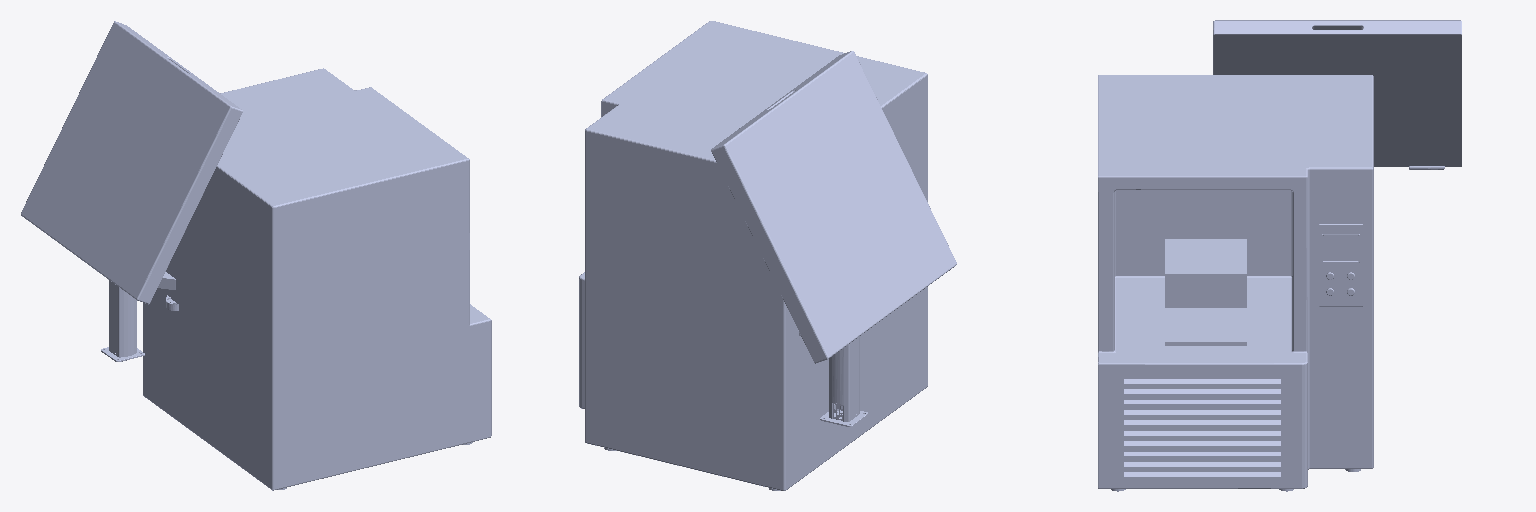
The robot description file, URDF, robot "z_arm_2442c0":
<?xml version="1.0" encoding="utf-8"?>
<!-- This URDF was automatically created by SolidWorks to URDF Exporter! Originally created by [author] ([email redacted]) 
     Commit Version: 1.6.0-4-g7f85cfe  Build Version: 1.6.7995.38578
     For more information, please see http://wiki.ros.org/sw_urdf_exporter -->
<robot
  name="z_arm_2442c0">
  <link
    name="base_link">
    <inertial>
      <origin
        xyz="-0.6178 0.59958 0.70792"
        rpy="0 0 0" />
      <mass
        value="951.87" />
      <inertia
        ixx="137.78"
        ixy="0.0044402"
        ixz="-10.933"
        iyy="119.15"
        iyz="-0.00067217"
        izz="158.71" />
    </inertial>
    <visual>
      <origin
        xyz="0 0 0"
        rpy="0 0 0" />
      <geometry>
        <mesh filename="package://z_arm_2442c0_model/meshes/base_link.STL" />
      </geometry>
<material
        name="">
        <color
          rgba="0.792156862745098 0.819607843137255 0.933333333333333 1" />
      </material>
    </visual>
    <collision>
      <origin
        xyz="0 0 0"
        rpy="0 0 0" />
      <geometry>
        <mesh filename="package://z_arm_2442c0_model/meshes/base_link.STL" />
      </geometry>
    </collision>
  </link>
  <link
    name="door_link">
    <inertial>
      <origin
        xyz="0.32048066892287 2.3834458054398E-10 0.562398088143635"
        rpy="0 0 0" />
      <mass
        value="181.651646287815" />
      <inertia
        ixx="48.7702456064344"
        ixy="-1.59733671105852E-10"
        ixz="-10.9325544807547"
        iyy="25.5516862461827"
        iyz="1.39131607597233E-11"
        izz="36.1437519623492" />
    </inertial>
    <visual>
      <origin
        xyz="0 0 0"
        rpy="0 0 0" />
      <geometry>
        <mesh filename="package://z_arm_2442c0_model/meshes/door_link.STL" />
      </geometry>
<material
        name="">
        <color
          rgba="0.792156862745098 0.819607843137255 0.933333333333333 1" />
      </material>
    </visual>
    <collision>
      <origin
        xyz="0 0 0"
        rpy="0 0 0" />
      <geometry>
        <mesh filename="package://z_arm_2442c0_model/meshes/door_link.STL" />
      </geometry>
    </collision>
  </link>
  <joint
    name="door_joint"
    type="revolute">
    <origin
      xyz="-1.2401 0.6 1.0971"
      rpy="0 0 0" />
    <parent
      link="base_link" />
    <child
      link="door_link" />
    <axis
      xyz="0 -1 0" />
  <limit lower="-1" upper="0.268" effort="10.0" velocity="2.5" />
  </joint>
  <link
    name="base_lift_link">
    <inertial>
      <origin
        xyz="-0.0138235267428053 -0.000617643429039805 0.256337391094087"
        rpy="0 0 0" />
      <mass
        value="2.24198664042392" />
      <inertia
        ixx="0.0506641832977411"
        ixy="7.09367963595699E-05"
        ixz="-0.000147564343759707"
        iyy="0.0494711018646685"
        iyz="-0.000578573299400282"
        izz="0.0102402545016511" />
    </inertial>
    <visual>
      <origin
        xyz="0 0 0"
        rpy="0 0 0" />
      <geometry>
        <mesh filename="package://z_arm_2442c0_model/meshes/base_lift_link.STL" />
      </geometry>
<material
        name="">
        <color
          rgba="0.792156862745098 0.819607843137255 0.933333333333333 1" />
      </material>
    </visual>
    <collision>
      <origin
        xyz="0 0 0"
        rpy="0 0 0" />
      <geometry>
        <mesh filename="package://z_arm_2442c0_model/meshes/base_lift_link.STL" />
      </geometry>
    </collision>
  </link>
  <joint
    name="base_joint"
    type="fixed">
    <origin
      xyz="-0.97852 0.59917 0.42459"
      rpy="0 0 0" />
    <parent
      link="base_link" />
    <child
      link="base_lift_link" />
    <axis
      xyz="0 0 0" />
  </joint>
  <link
    name="lift_link">
    <inertial>
      <origin
        xyz="-0.0394813607628044 -0.000736121252994326 -0.0372265212000362"
        rpy="0 0 0" />
      <mass
        value="0.993724555380008" />
      <inertia
        ixx="0.000951122396615806"
        ixy="-5.13373343735685E-05"
        ixz="7.33288284051898E-05"
        iyy="0.00342810823599992"
        iyz="-1.00008205904848E-06"
        izz="0.00392520888178525" />
    </inertial>
    <visual>
      <origin
        xyz="0 0 0"
        rpy="0 0 0" />
      <geometry>
        <mesh filename="package://z_arm_2442c0_model/meshes/lift_link.STL" />
      </geometry>
<material
        name="">
        <color
          rgba="0.792156862745098 0.819607843137255 0.933333333333333 1" />
      </material>
    </visual>
    <collision>
      <origin
        xyz="0 0 0"
        rpy="0 0 0" />
      <geometry>
        <mesh filename="package://z_arm_2442c0_model/meshes/lift_link.STL" />
      </geometry>
    </collision>
  </link>
  <joint
    name="lift_joint"
    type="prismatic">
    <origin
      xyz="0.1207 0.0018675 0.5009"
      rpy="0 0 0" />
    <parent
      link="base_lift_link" />
    <child
      link="lift_link" />
    <axis
      xyz="0 0 -1" />
    <limit lower="-0.068" upper="0.268" effort="10.0" velocity="2.5" />
  </joint>
  <link
    name="revolute_1_link">
    <inertial>
      <origin
        xyz="0.0606601004684422 -0.0932567161478479 -0.0341257142535358"
        rpy="0 0 0" />
      <mass
        value="2.3889549988802" />
      <inertia
        ixx="0.014531129631885"
        ixy="0.00746693434928961"
        ixz="5.15406751826989E-05"
        iyy="0.00789336402236104"
        iyz="-7.92546580618748E-05"
        izz="0.0205254159011504" />
    </inertial>
    <visual>
      <origin
        xyz="0 0 0"
        rpy="0 0 0" />
      <geometry>
        <mesh filename="package://z_arm_2442c0_model/meshes/revolute_1_link.STL" />
      </geometry>
<material
        name="">
        <color
          rgba="0.792156862745098 0.819607843137255 0.933333333333333 1" />
      </material>
    </visual>
    <collision>
      <origin
        xyz="0 0 0"
        rpy="0 0 0" />
      <geometry>
        <mesh filename="package://z_arm_2442c0_model/meshes/revolute_1_link.STL" />
      </geometry>
    </collision>
  </link>
  <joint
    name="revolute_1_joint"
    type="revolute">
    <origin
      xyz="0.012024 0.00017897 -0.066"
      rpy="0 0 0" />
    <parent
      link="lift_link" />
    <child
      link="revolute_1_link" />
    <axis
      xyz="0 0 1" />
    <limit lower="-0.550" upper="2.59" effort="10.0" velocity="2.5" />
  </joint>
  <link
    name="revolute_2_link">
    <inertial>
      <origin
        xyz="0.0510174015179587 0.0862834154944128 0.0203041362505351"
        rpy="0 0 0" />
      <mass
        value="1.2295144495631" />
      <inertia
        ixx="0.00630447000979999"
        ixy="-0.00305064142878226"
        ixz="-3.98688476250461E-06"
        iyy="0.00294255711521701"
        iyz="-5.99941190124979E-06"
        izz="0.00890314242165485" />
    </inertial>
    <visual>
      <origin
        xyz="0 0 0"
        rpy="0 0 0" />
      <geometry>
        <mesh filename="package://z_arm_2442c0_model/meshes/revolute_2_link.STL" />
      </geometry>
<material
        name="">
        <color
          rgba="0.792156862745098 0.819607843137255 0.933333333333333 1" />
      </material>
    </visual>
    <collision>
      <origin
        xyz="0 0 0"
        rpy="0 0 0" />
      <geometry>
        <mesh filename="package://z_arm_2442c0_model/meshes/revolute_2_link.STL" />
      </geometry>
    </collision>
  </link>
  <joint
    name="revolute_2_joint"
    type="revolute">
    <origin
      xyz="0.11991 -0.18445 -0.118"
      rpy="0 0 0" />
    <parent
      link="revolute_1_link" />
    <child
      link="revolute_2_link" />
    <axis
      xyz="0 0 -1" />
  <limit lower="-1.056" upper="4.678" effort="10.0" velocity="2.5" />
  </joint>
  <link
    name="revolute_3_link">
    <inertial>
      <origin
        xyz="0.000243780027589846 0.000259647437434044 0.000662357342637421"
        rpy="0 0 0" />
      <mass
        value="0.0445549065520843" />
      <inertia
        ixx="1.84658724230793E-05"
        ixy="1.16123299150103E-07"
        ixz="4.11478557324253E-08"
        iyy="1.85936893619463E-05"
        iyz="6.961350801403E-08"
        izz="3.2800424734752E-05" />
    </inertial>
    <visual>
      <origin
        xyz="0 0 0"
        rpy="0 0 0" />
      <geometry>
        <mesh filename="package://z_arm_2442c0_model/meshes/revolute_3_link.STL" />
      </geometry>
<material
        name="">
        <color
          rgba="0.792156862745098 0.819607843137255 0.933333333333333 1" />
      </material>
    </visual>
    <collision>
      <origin
        xyz="0 0 0"
        rpy="0 0 0" />
      <geometry>
        <mesh filename="package://z_arm_2442c0_model/meshes/revolute_3_link.STL" />
      </geometry>
    </collision>
  </link>
  <joint
    name="revolute_3_joint"
    type="continuous">
    <origin
      xyz="0.1017 0.17221 -0.006"
      rpy="0 0 0" />
    <parent
      link="revolute_2_link" />
    <child
      link="revolute_3_link" />
    <axis
      xyz="0 0 -1" />
  </joint>
  <link
    name="camera_base_link">
    <inertial>
      <origin
        xyz="0.0645225305069741 4.19126539030756E-14 0.0100037609326707"
        rpy="0 0 0" />
      <mass
        value="0.203205987623318" />
      <inertia
        ixx="0.000356342335905053"
        ixy="3.57925534001859E-15"
        ixz="-5.885123713497E-08"
        iyy="0.00112927525440866"
        iyz="1.2555122051253E-10"
        izz="0.0014722379325005" />
    </inertial>
    <visual>
      <origin
        xyz="0 0 0"
        rpy="0 0 0" />
      <geometry>
        <mesh filename="package://z_arm_2442c0_model/meshes/camera_base_link.STL" />
      </geometry>
      <material
        name="">
        <color
          rgba="0.792156862745098 0.819607843137255 0.933333333333333 1" />
      </material>
    </visual>
    <collision>
      <origin
        xyz="0 0 0"
        rpy="0 0 0" />
      <geometry>
        <mesh filename="package://z_arm_2442c0_model/meshes/camera_base_link.STL" />
      </geometry>
    </collision>
  </link>
  <joint
    name="camera_base_joint"
    type="fixed">
    <origin
      xyz="0 0 -0.015655"
      rpy="0 0 0" />
    <parent
      link="revolute_3_link" />
    <child
      link="camera_base_link" />
    <axis
      xyz="0 0 0" />
  </joint>

  <link name="camera_revolute_link">
    <inertial>
      <origin
        xyz="1.01771558122313E-05 -1.59114604170695E-06 -0.00500000000000023"
        rpy="0 0 0" />
      <mass
        value="0.118601590695084" />
      <inertia
        ixx="0.000184097924869798"
        ixy="2.82010553142919E-06"
        ixz="-2.91692972568406E-21"
        iyy="0.000250754763407668"
        iyz="2.29773777365639E-20"
        izz="0.000432877616283766" />
    </inertial>
    <visual>
     <origin
        xyz="0 0 0"
        rpy="0 0 0" />
      <geometry>
        <mesh filename="package://z_arm_2442c0_model/meshes/camera_revolute_link.STL" />
      </geometry>
<material
        name="">
        <color
          rgba="0.792156862745098 0.819607843137255 0.933333333333333 1" />
      </material>
    </visual>
    <collision>
      <origin xyz="0 0 0" rpy="0 0 0"/>
      <geometry>
        <mesh filename="package://z_arm_2442c0_model/meshes/camera_revolute_link.STL" />
      </geometry>
    </collision>  
  </link>
  <joint name="camera_revolute_joint" type="continuous">
    <origin
      xyz="0.141018940058406 7.96433655524172E-05 0.0200000000000001"
      rpy="0 0 0" />
    <parent link="camera_base_link"/>
    <child link="camera_revolute_link"/>
    <axis xyz="0 0 1"/>
  </joint>

  <link
    name="camera_1_link">
    <inertial>
      <origin
        xyz="-0.00203650221406804 -0.000549602386836587 -0.0254478625269233"
        rpy="0 0 0" />
      <mass
        value="0.0230681246047575" />
      <inertia
        ixx="2.80041163711897E-06"
        ixy="-2.07454955997632E-09"
        ixz="9.94356803236955E-10"
        iyy="2.54526957034486E-06"
        iyz="-6.5620549616381E-10"
        izz="2.73325575599856E-06" />
    </inertial>
    <visual>
      <origin
        xyz="0 0 0"
        rpy="0 0 0" />
      <geometry>
        <mesh filename="package://z_arm_2442c0_model/meshes/camera_1_link.STL" />
      </geometry>
      <material
        name="">
        <color
          rgba="0.592156862745098 0.666666666666667 0.682352941176471 1" />
      </material>
    </visual>
    <collision>
      <origin
        xyz="0 0 0"
        rpy="0 0 0" />
      <geometry>
        <mesh filename="package://z_arm_2442c0_model/meshes/camera_1_link.STL" />
      </geometry>
    </collision>
  </link>
  <joint
    name="camera_1_joint"
    type="fixed">
    <origin xyz="0.0234 0.047416 0.1" rpy="0 0 0"/>
    <parent
      link="camera_revolute_link" />
    <child
      link="camera_1_link" />
    <axis
      xyz="0 0 0" />
  </joint>
  <link
    name="camera_2_link">
    <inertial>
      <origin
        xyz="-0.00203650220050811 -0.000549602349943078 -0.0254478626652848"
        rpy="0 0 0" />
      <mass
        value="0.0230681244154274" />
      <inertia
        ixx="2.80041162977159E-06"
        ixy="-2.07455614253564E-09"
        ixz="9.94356728132775E-10"
        iyy="2.54526956438894E-06"
        iyz="-6.56206058171943E-10"
        izz="2.73325574263675E-06" />
    </inertial>
    <visual>
      <origin
        xyz="0 0 0"
        rpy="0 0 0" />
      <geometry>
        <mesh filename="package://z_arm_2442c0_model/meshes/camera_2_link.STL" />
      </geometry>
      <material
        name="">
        <color
          rgba="0.592156862745098 0.666666666666667 0.682352941176471 1" />
      </material>
    </visual>
    <collision>
      <origin
        xyz="0 0 0"
        rpy="0 0 0" />
      <geometry>
        <mesh filename="package://z_arm_2442c0_model/meshes/camera_2_link.STL" />
      </geometry>
    </collision>
  </link>
  <joint
    name="camera_2_joint"
    type="fixed">
    <origin xyz="-0.0216 0.047416 0.1" rpy="0 0 0"/>
    <parent
      link="camera_revolute_link" />
    <child
      link="camera_2_link" />
    <axis
      xyz="0 0 0" />
  </joint>
  <link
    name="camera_3_link">
    <inertial>
      <origin
        xyz="-4.00055268708552E-05 2.8830575549553E-05 -0.0695444399884141"
        rpy="0 0 0" />
      <mass
        value="1.45710864588612" />
      <inertia
        ixx="0.00346080248209257"
        ixy="-1.44272618610586E-10"
        ixz="-8.72777874649103E-11"
        iyy="0.00346080682501201"
        iyz="1.8464007560091E-10"
        izz="0.0023545593226906" />
    </inertial>
    <visual>
      <origin
        xyz="0 0 0"
        rpy="0 0 0" />
      <geometry>
        <mesh filename="package://z_arm_2442c0_model/meshes/camera_3_link.STL" />
      </geometry>
<material
        name="">
        <color
          rgba="0.792156862745098 0.819607843137255 0.933333333333333 1" />
      </material>
    </visual>
    <collision>
      <origin
        xyz="0 0 0"
        rpy="0 0 0" />
      <geometry>
        <mesh filename="package://z_arm_2442c0_model/meshes/camera_3_link.STL" />
      </geometry>
    </collision>
  </link>
  <joint
    name="camera_3_joint"
    type="fixed">
  <origin xyz="-0.00181 -0.025558 0.15" rpy="0 0 0"/>
    <parent
      link="camera_revolute_link" />
    <child
      link="camera_3_link" />
    <axis
      xyz="0 0 0" />
  </joint>
</robot>

--- Facts derived from the render (not from the file) ---
Views: 3 orthographic renders of the robot side by side, from view 1: azimuth 30°, elevation 25°; view 2: azimuth 150°, elevation 25°; view 3: azimuth 270°, elevation 25°.
Robot: z_arm_2442c0 — 12 links, 11 joints (3 revolute, 2 continuous, 1 prismatic, 5 fixed); root link base_link; default pose: every joint at zero.
Links seen in each view (by area): view 1: base_link, door_link, base_lift_link; view 2: base_link, door_link, base_lift_link; view 3: base_link, door_link.
Boxes of the visible links, x1=… form: base_link: x1=143, y1=68, x2=491, y2=490; door_link: x1=21, y1=21, x2=242, y2=304; base_lift_link: x1=101, y1=280, x2=144, y2=361; base_link: x1=579, y1=21, x2=927, y2=490; door_link: x1=711, y1=51, x2=956, y2=363; base_lift_link: x1=820, y1=336, x2=867, y2=426; base_link: x1=1098, y1=75, x2=1373, y2=491; door_link: x1=1213, y1=20, x2=1461, y2=169.
Bounding box of the posed robot: 2.07 × 2.05 × 2.29 m (x, y, z).
11 mesh visuals loaded from 12 distinct referenced files (11 binary STL); not drawn: 1 (reference not matched to a file when rendering).